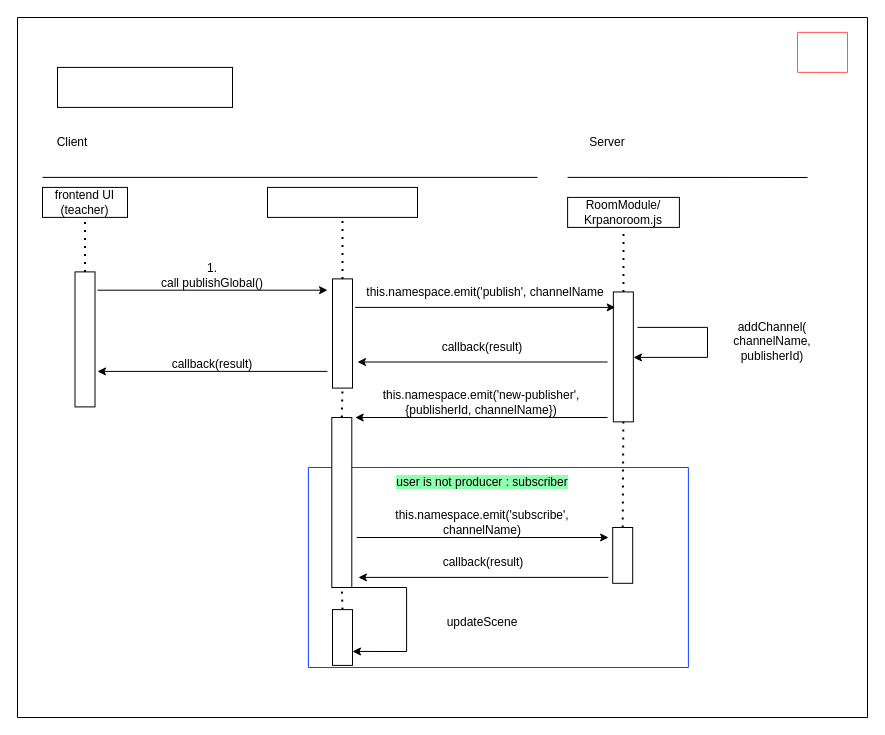
The diagram is 885 pixels wide and 735 high, and some of its shapes have lost their labels. Here are the shapes that lost their labels. From the top down, the centre of each, then its label:
At [144,86]: "Krpanoroom : publish global (同步環景)".
At [342,201]: "RoomModule/ KrpanoroomClient".
